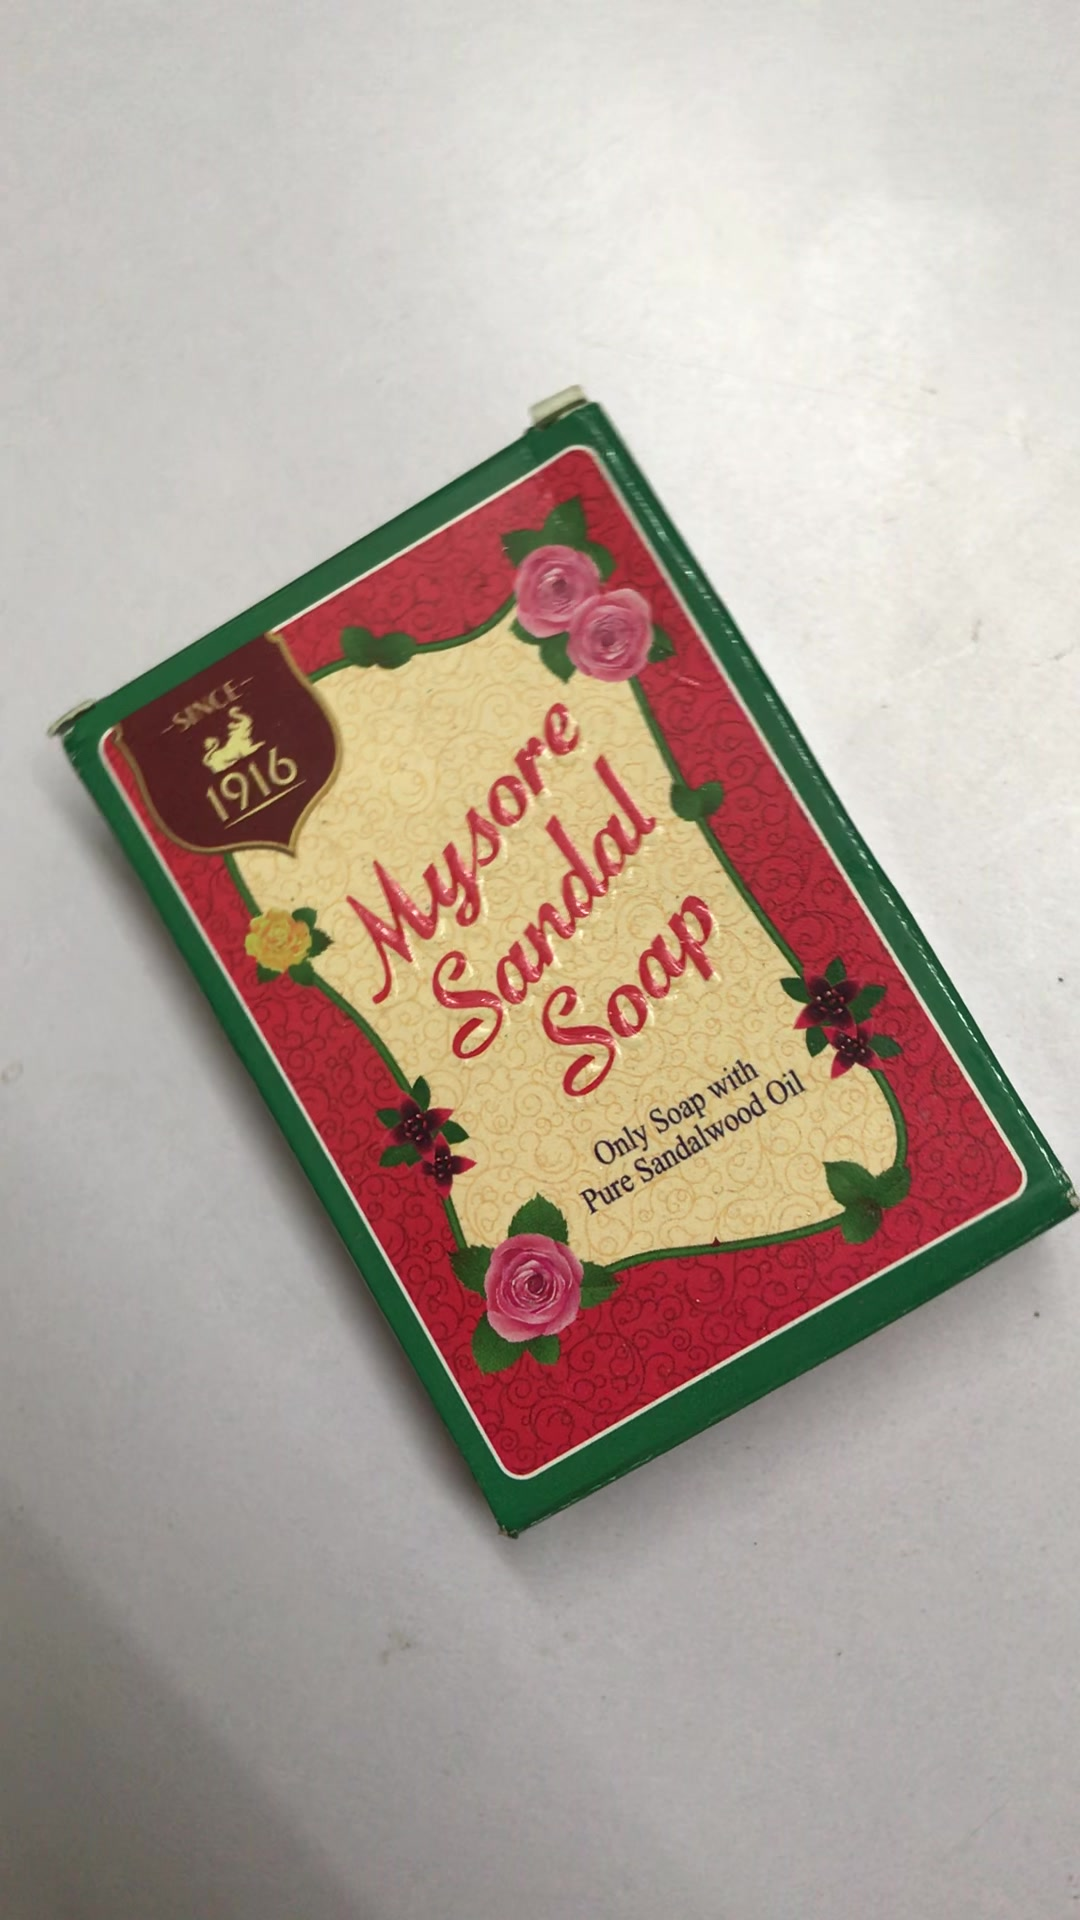mysore sandal soap: (57, 404, 1080, 1551)
